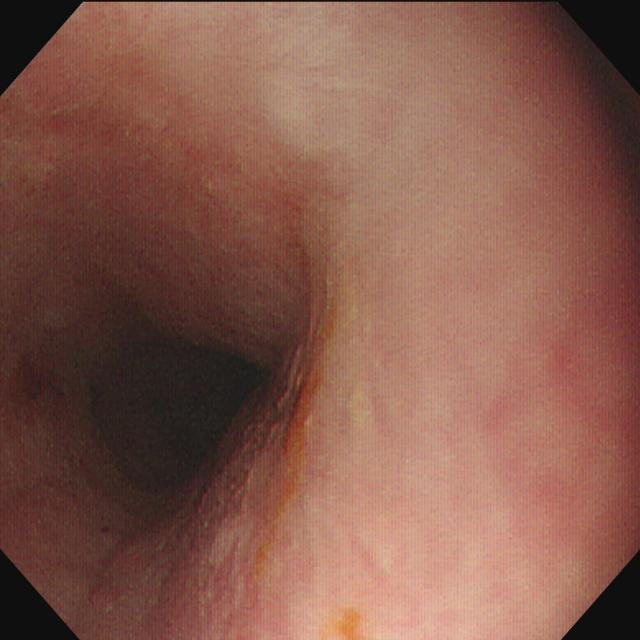E: (71, 306, 279, 523)
